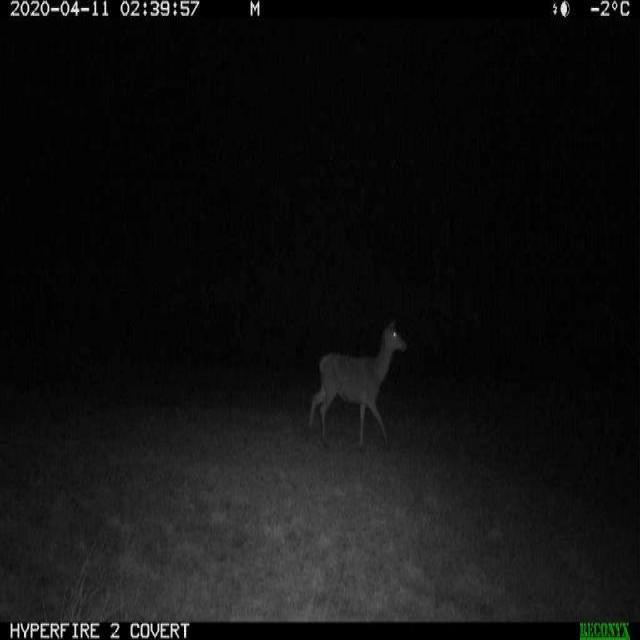deer: (301, 306, 414, 457)
